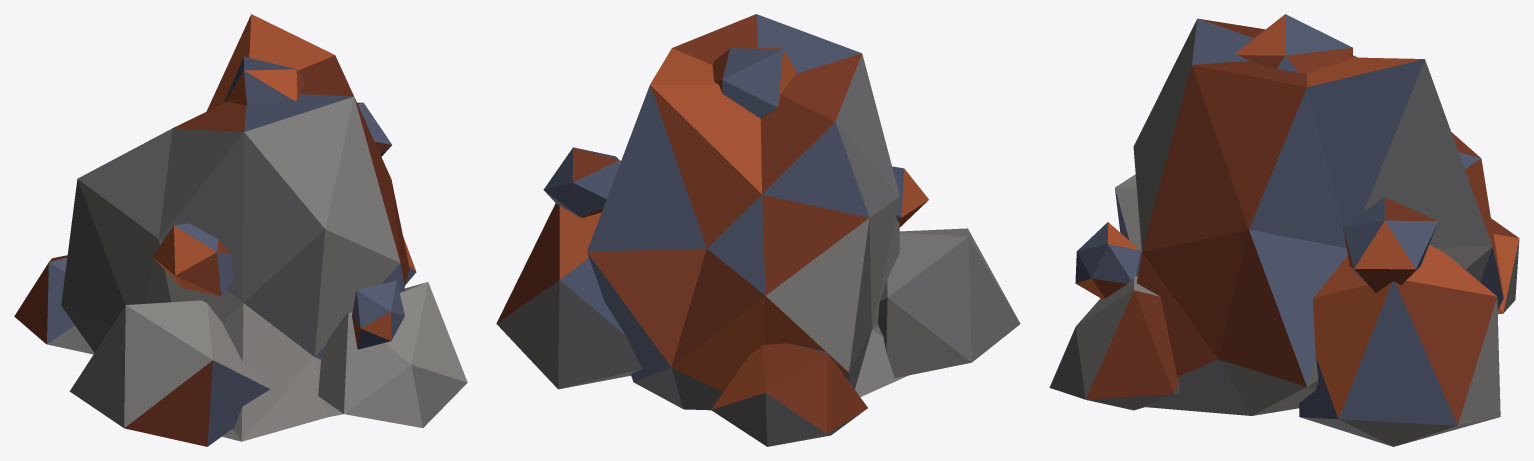
The model's file is rock_b.obj.
The picture shows the model from 3 angles, left to right: view 1: azimuth 30°, elevation 25°; view 2: azimuth 150°, elevation 25°; view 3: azimuth 270°, elevation 25°; orthographic projection. The views are drawn at different scales.
Bounding box in the file's own units: 1.16 × 0.8511 × 1.09.
